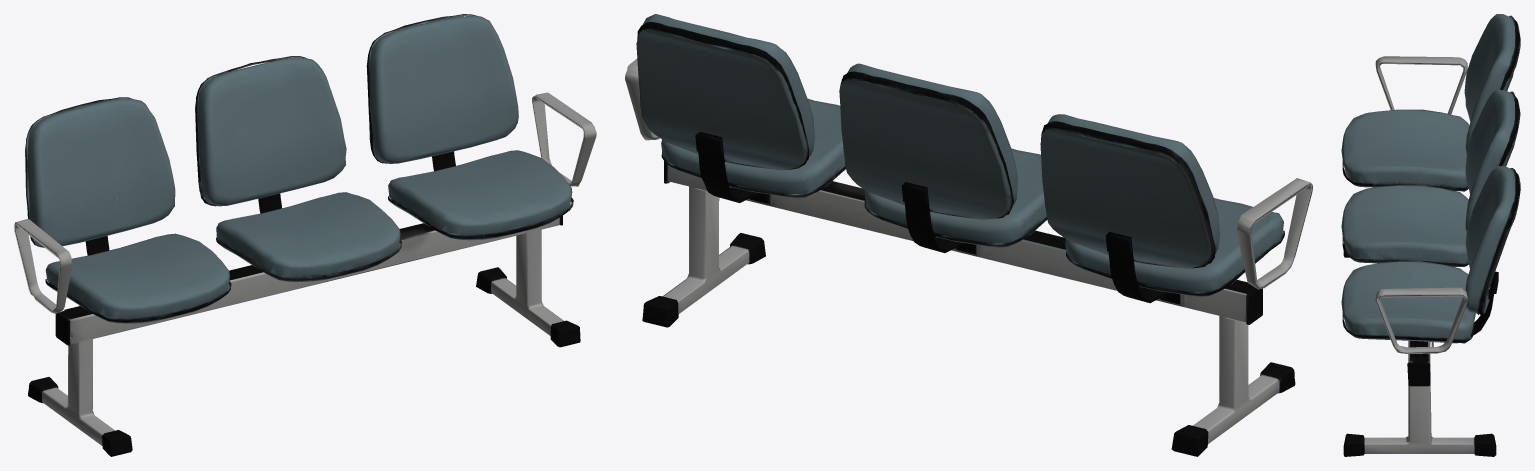
Rendered from upa_longarina.glb.
3 views of the same model, side by side, from view 1: azimuth 30°, elevation 25°; view 2: azimuth 150°, elevation 25°; view 3: azimuth 270°, elevation 25° (orthographic). The views are drawn at different scales.
Visible parts, largest first — view 1: upa_longarina – Clinic Waiting Bench; view 2: upa_longarina – Clinic Waiting Bench; view 3: upa_longarina – Clinic Waiting Bench.
Part boxes in pixels (x1,y1,x2,y2): upa_longarina – Clinic Waiting Bench: (14, 14, 596, 456); upa_longarina – Clinic Waiting Bench: (625, 14, 1312, 456); upa_longarina – Clinic Waiting Bench: (1341, 14, 1520, 456).
Bounding box in the file's own units: 1.77 × 0.85 × 0.5655.
1 material, 1 textured.
